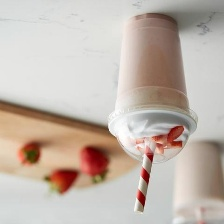drinking_straw: (128, 137, 161, 216)
glass: (101, 9, 202, 167)
